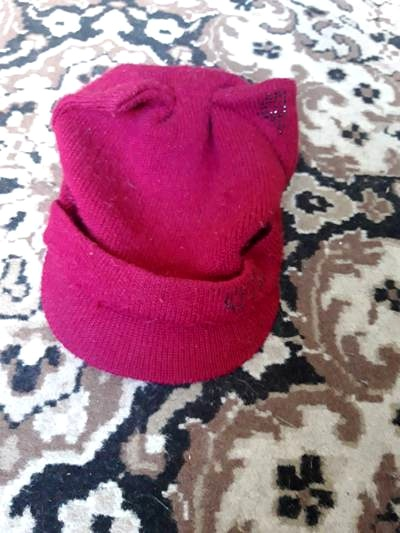Hat: (19, 28, 333, 409)
